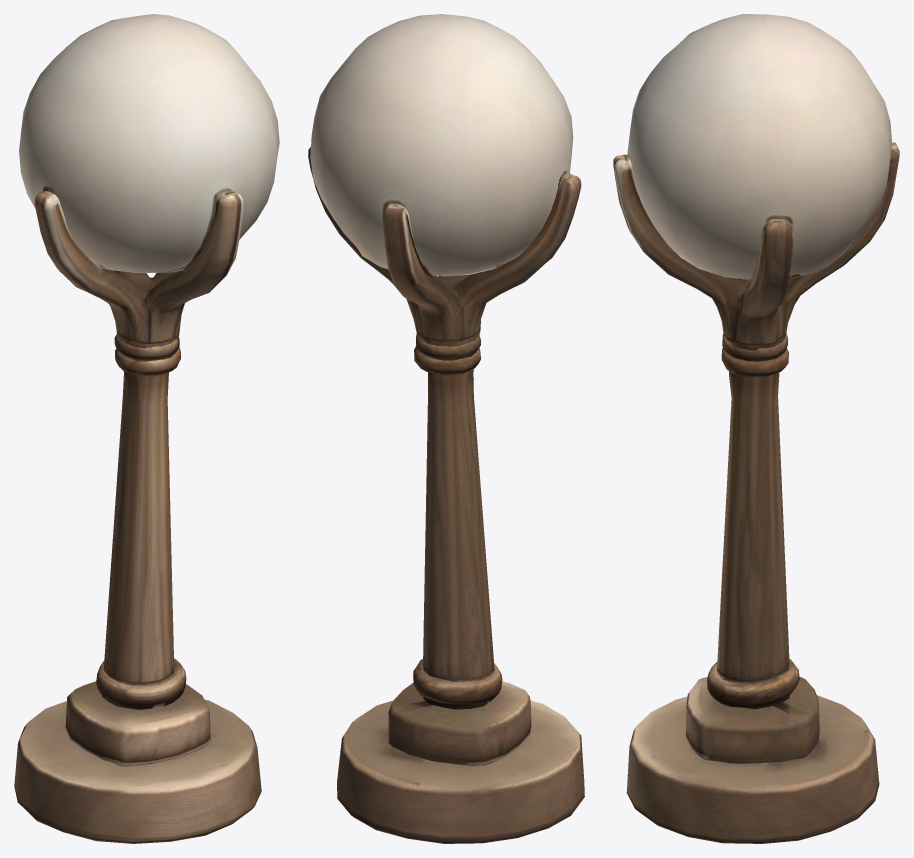
The model's file is act1-a14-3-milk-night-light.glb.
3 renders of one model, left to right at view 1: azimuth 30°, elevation 25°; view 2: azimuth 150°, elevation 25°; view 3: azimuth 270°, elevation 25°, orthographic.
Parts seen in each view (by area): view 1: act1-a14-3-milk-night-light; view 2: act1-a14-3-milk-night-light; view 3: act1-a14-3-milk-night-light.
Part boxes in pixels (<box>): act1-a14-3-milk-night-light: <box>14,14,279,843</box>; act1-a14-3-milk-night-light: <box>308,14,584,843</box>; act1-a14-3-milk-night-light: <box>613,14,899,843</box>.
Size of the model in its own units: 0.7269 by 2.16 by 0.7242.
1 material, 1 textured.
